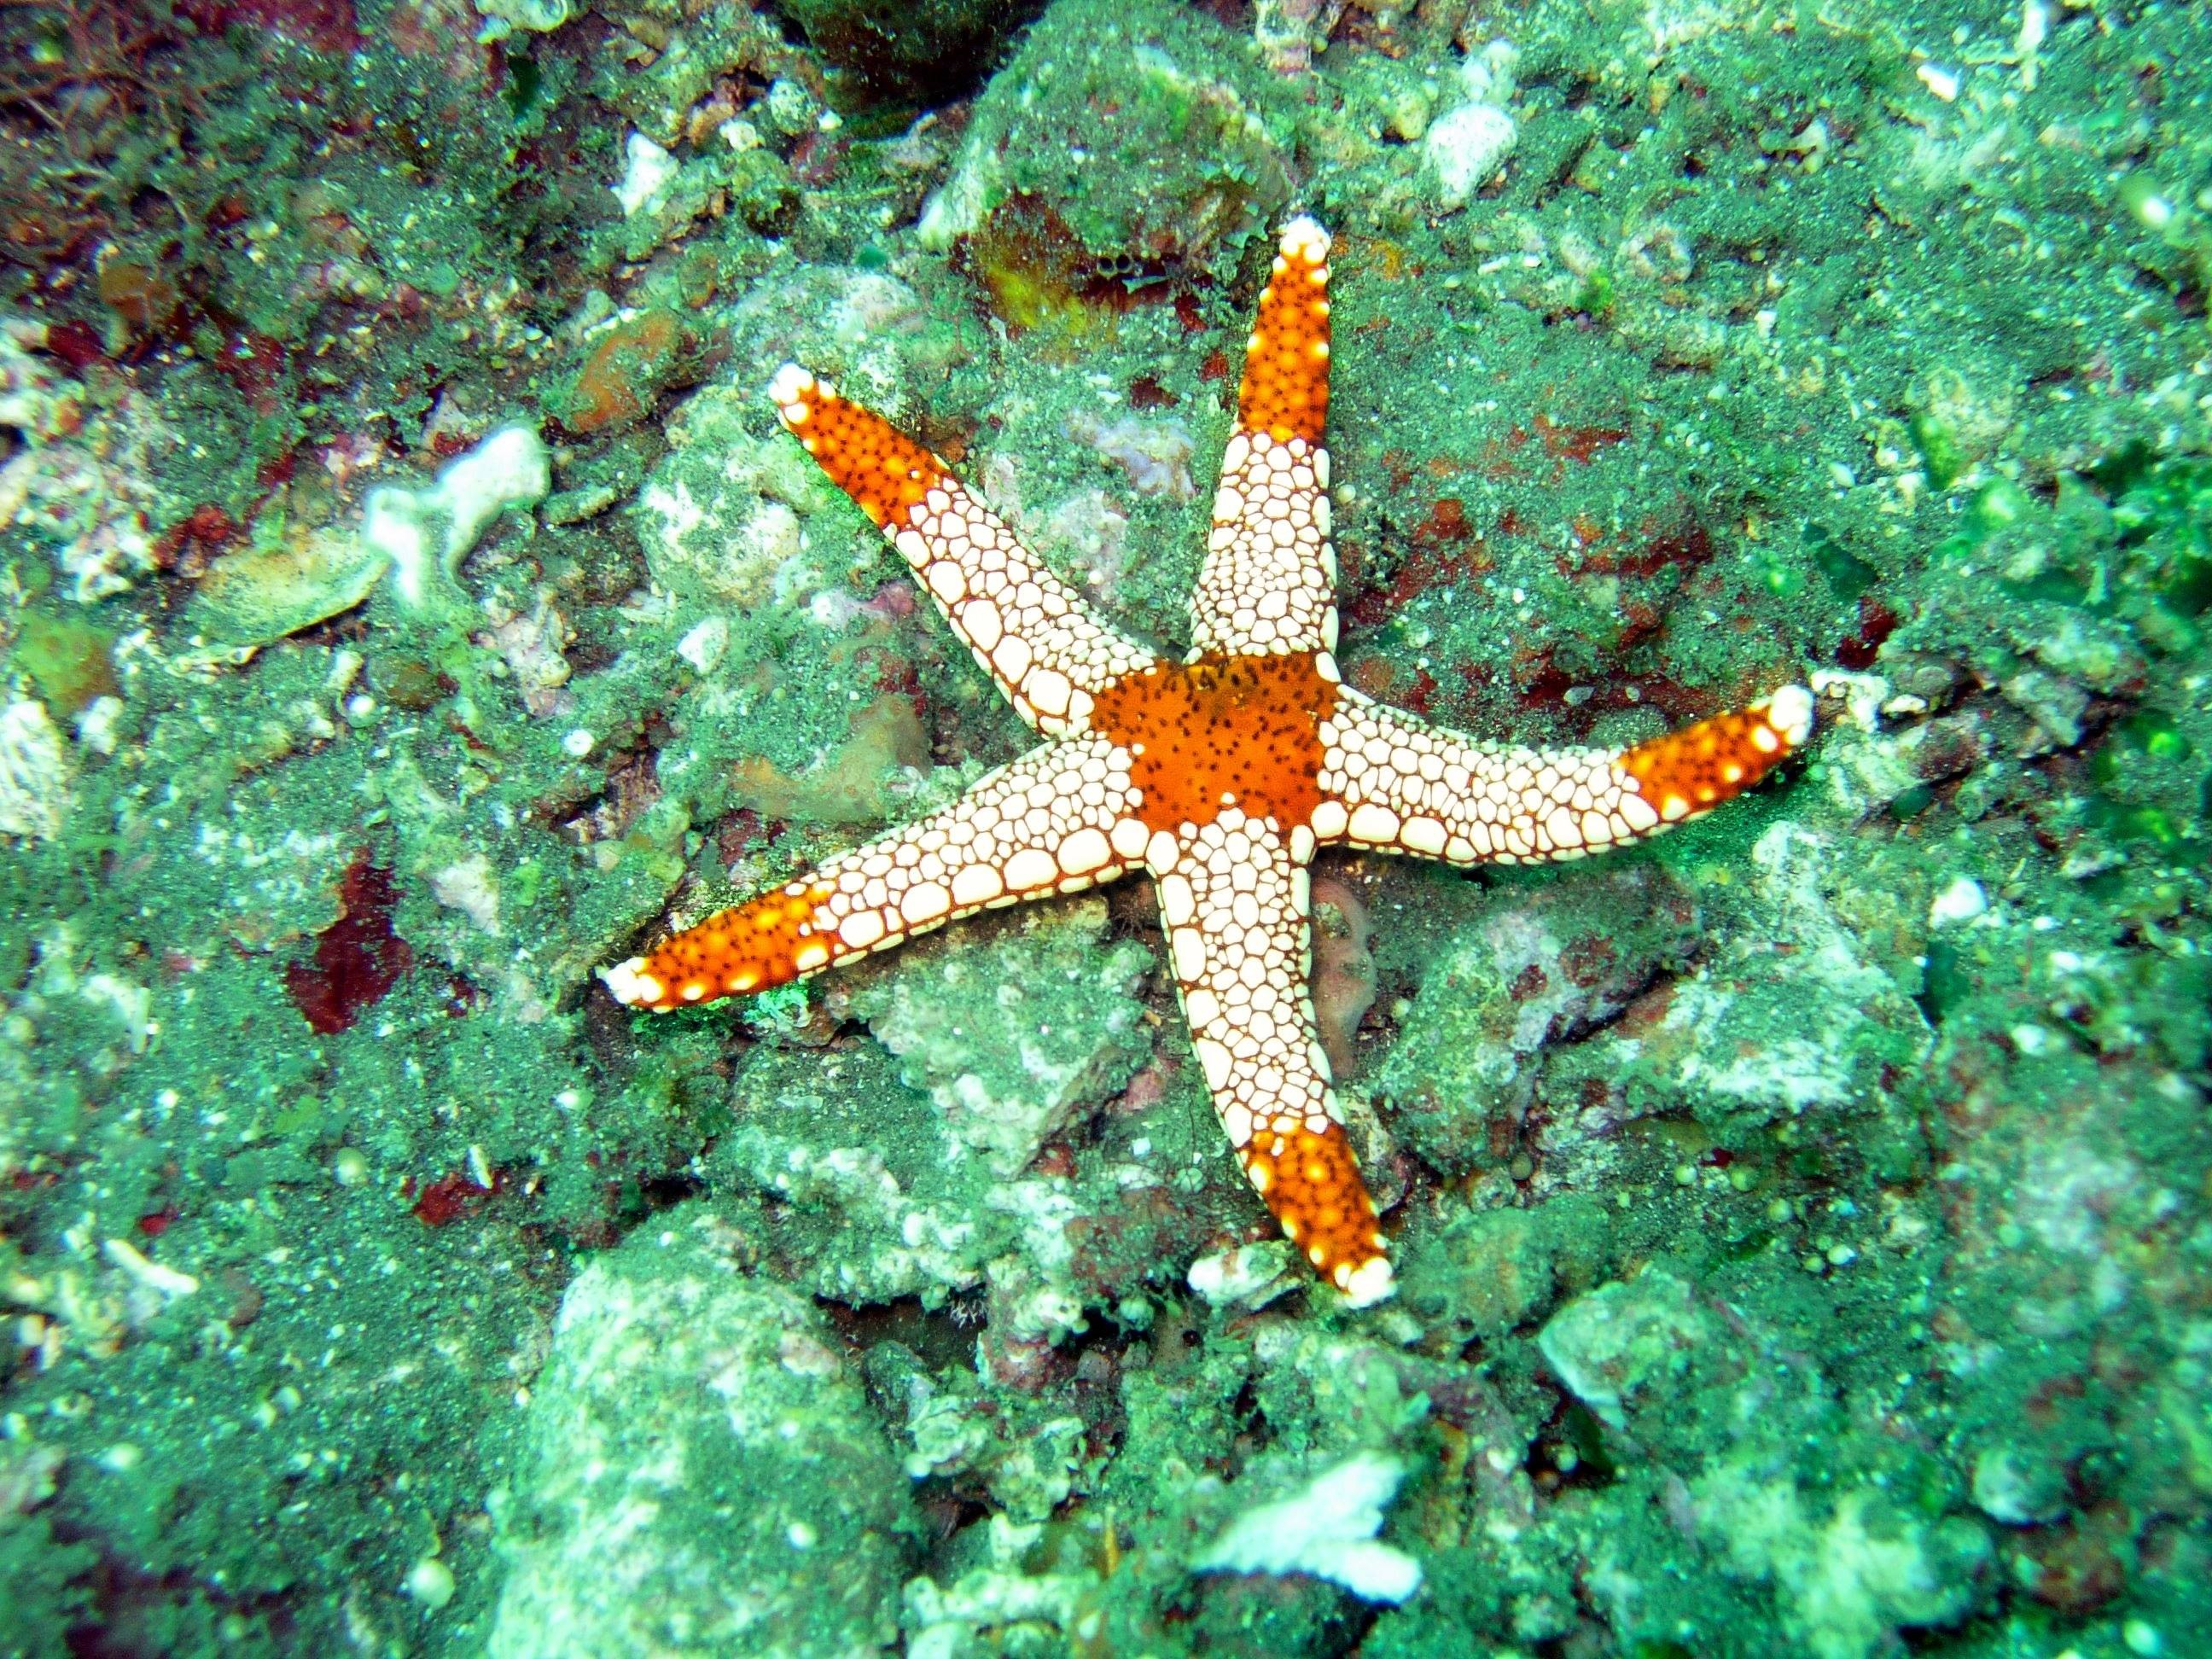starfish: (688, 195, 1850, 1309)
